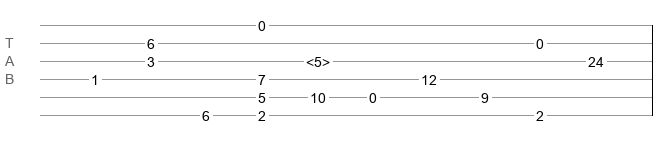0: (258, 18, 266, 28), (369, 90, 377, 100), (536, 36, 544, 46)
1: (91, 72, 99, 82)
10: (310, 90, 326, 100)
12: (421, 72, 437, 82)
2: (258, 108, 266, 118), (536, 108, 544, 118)
24: (588, 54, 604, 64)
3: (147, 54, 155, 64)
5: (258, 90, 266, 100)
6: (147, 36, 155, 46), (202, 108, 210, 118)
7: (258, 72, 266, 82)
9: (481, 90, 489, 100)
harmonic: (306, 54, 330, 64)
